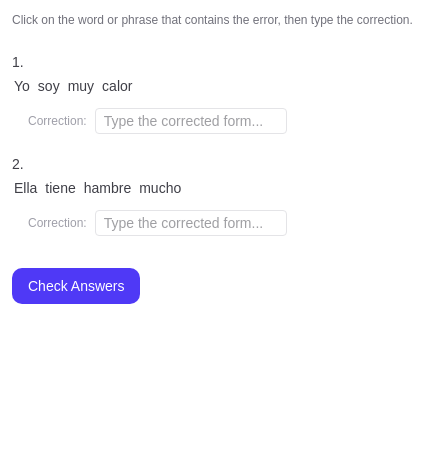
Scenario: ErrorCorrectionRenderer.Student › resets state after try-again
The image size is (429, 461).
Click the button with test id "check-answers-btn": (76, 286) x1=12 y1=268 x2=140 y2=304
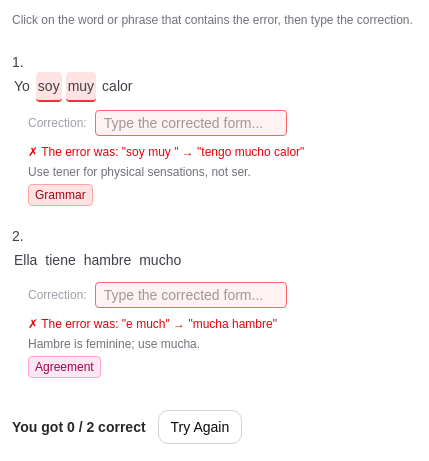
Check: the text "You got 0 / 2 correct" is shown, box x1=12 y1=417 x2=146 y2=437
Click the button with test id "try-again-btn": (200, 427) x1=158 y1=410 x2=242 y2=444
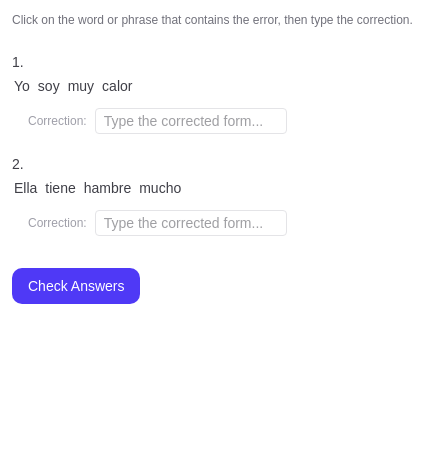
Check: the button with test id "check-answers-btn" is shown, box x1=12 y1=268 x2=140 y2=304
Check: the text with test id "score-summary" is gone
